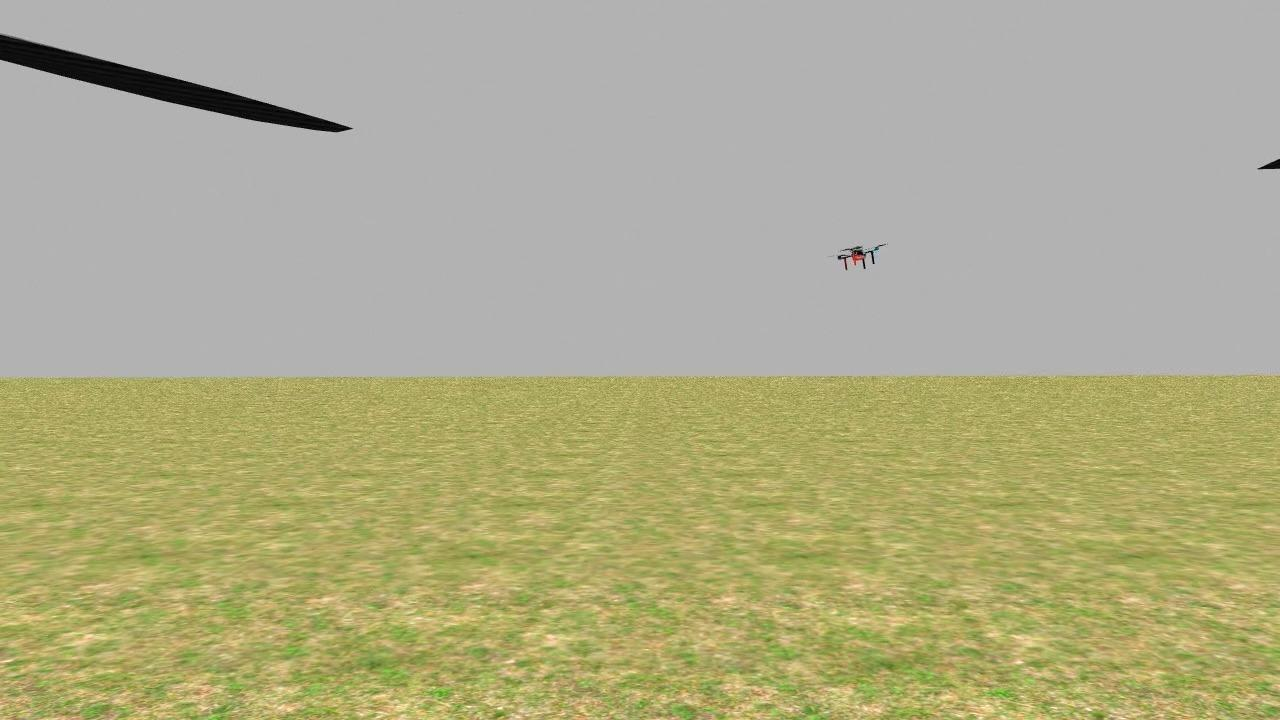UAV: (820, 226, 896, 276)
